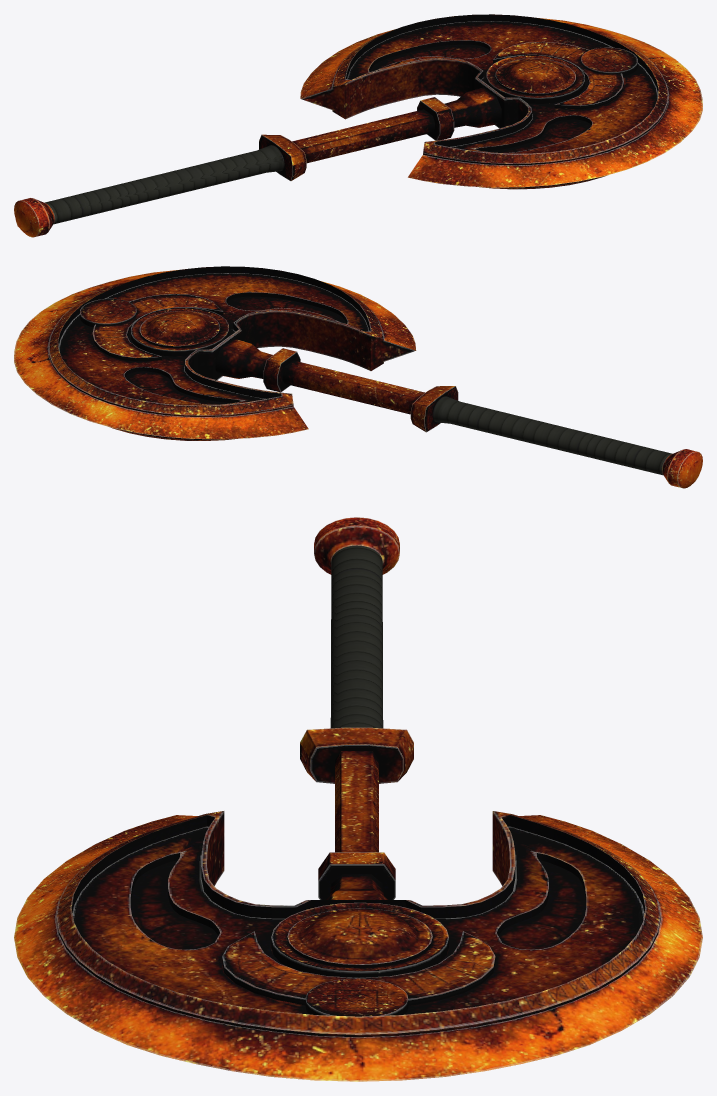
The model's file is dwarven_battle_axe_ingame2.glb.
3 views of the same model, one above another, from view 1: azimuth 30°, elevation 25°; view 2: azimuth 150°, elevation 25°; view 3: azimuth 270°, elevation 25° (orthographic). The views are drawn at different scales.
Parts seen in each view (by area): view 1: Object_2; view 2: Object_2; view 3: Object_2.
Part boxes in pixels (<box>): Object_2: <box>14,14,702,237</box>; Object_2: <box>14,266,702,488</box>; Object_2: <box>14,517,702,1081</box>.
Bounding box in the file's own units: 90.52 × 6.61 × 48.63.
Materials: 1 (1 with a texture image).
